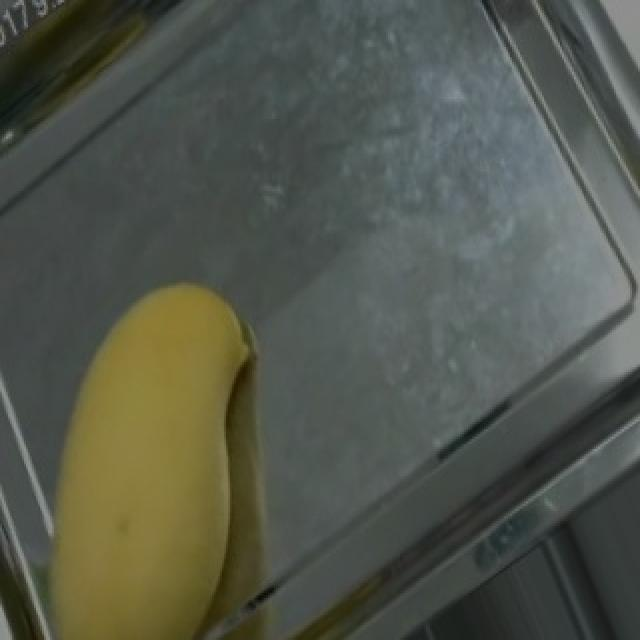fruit: (0, 238, 326, 625)
